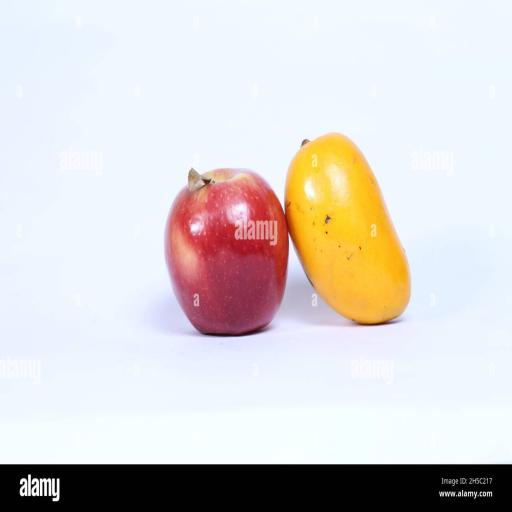apple: (165, 169, 288, 334)
mango: (286, 134, 410, 324)
